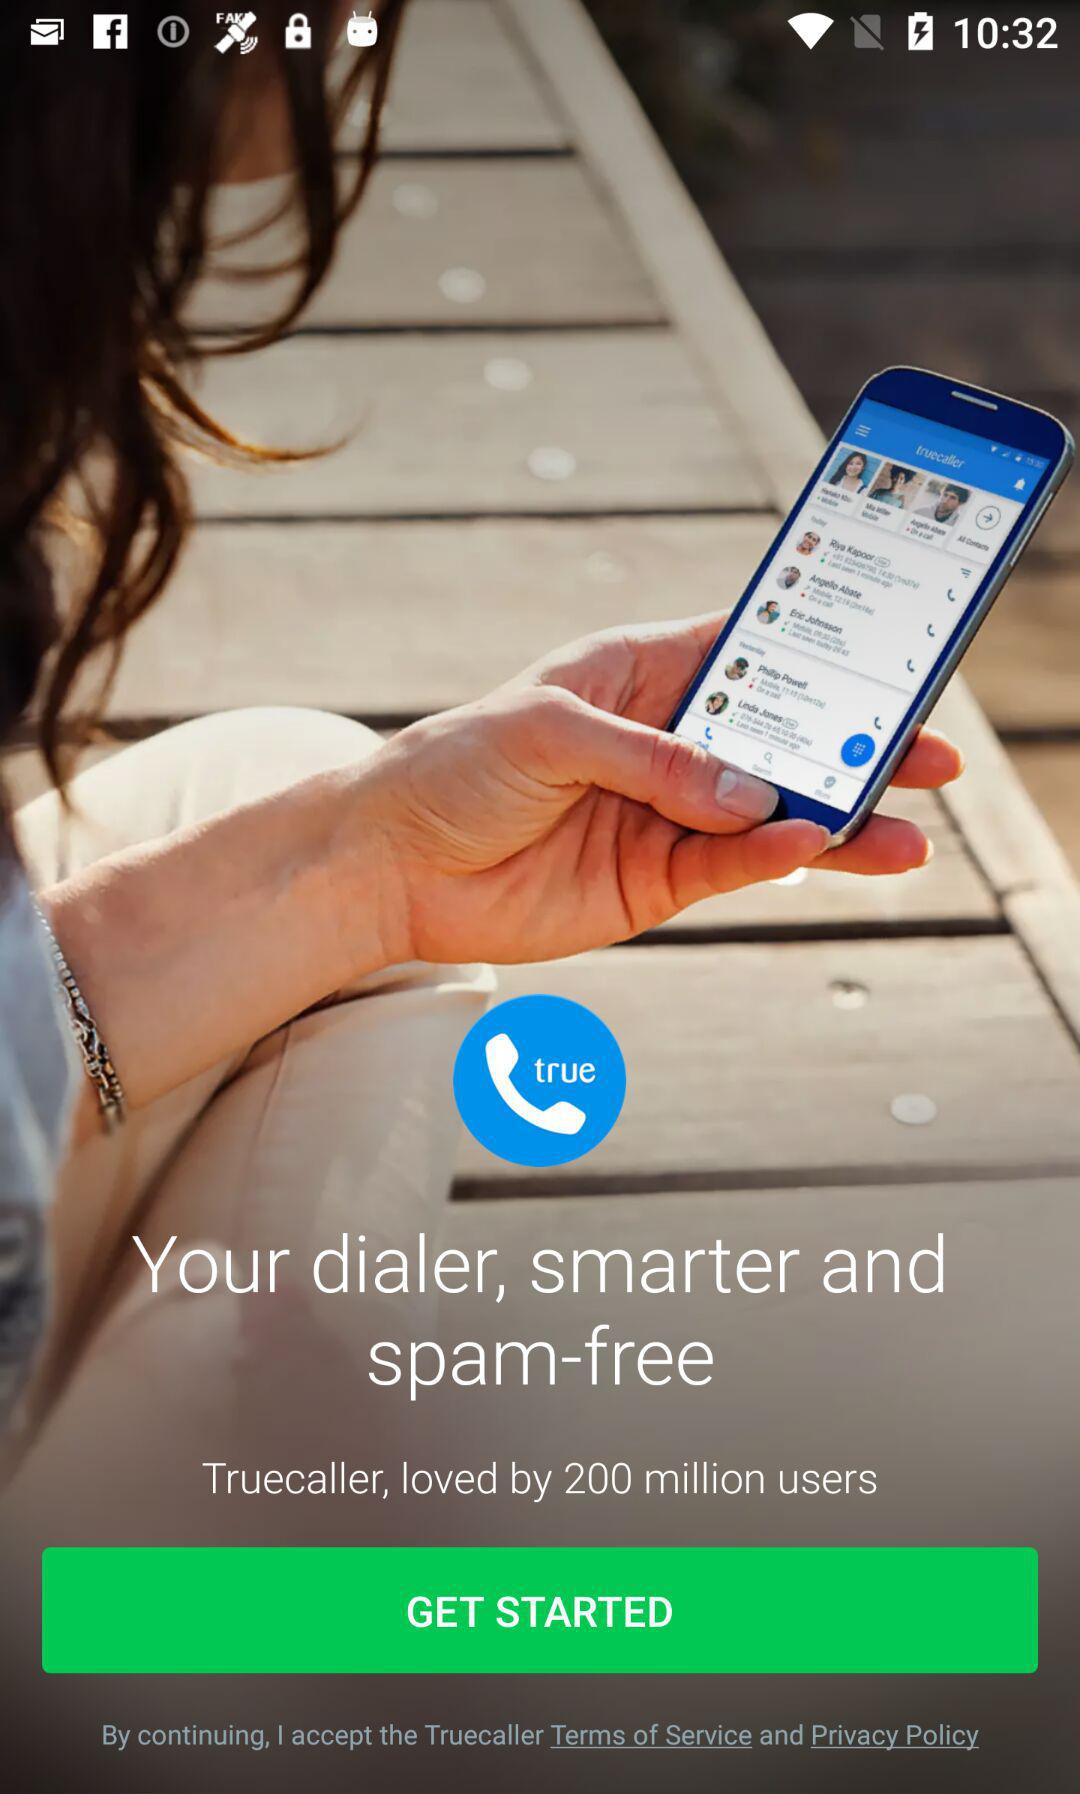BackgroundImage: (1, 56, 1080, 1794)
Image: (454, 994, 626, 1167)
Text: (131, 1231, 945, 1402), (201, 1461, 878, 1504), (102, 1724, 980, 1752)
TextButton: (42, 1547, 1038, 1675)
UpperTaskBar: (1, 1, 1080, 56)
